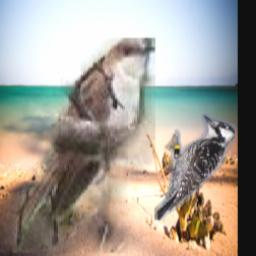Cuckoo: (0, 38, 155, 253)
Woodpecker: (154, 115, 236, 221)
